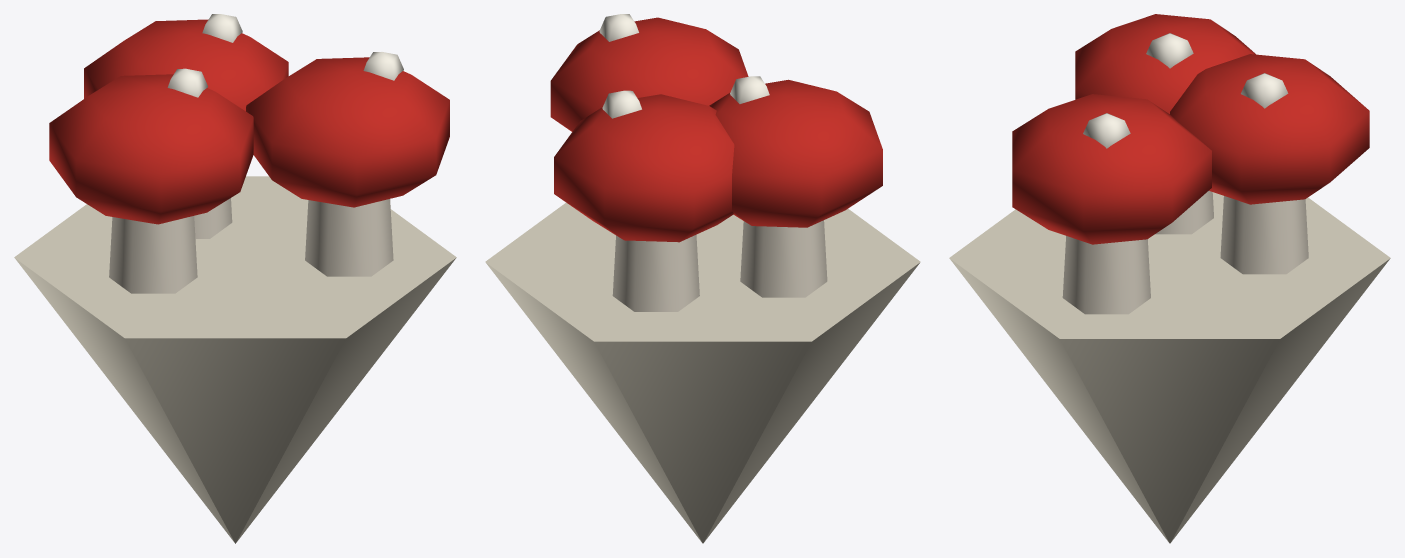
File: good-toadstool.glb
3 views of the same model, side by side, from view 1: azimuth 30°, elevation 25°; view 2: azimuth 150°, elevation 25°; view 3: azimuth 270°, elevation 25° (orthographic).
Parts seen in each view (by area): view 1: #d8d2c0, #c02a22_noshadow, #e8e0d0_noshadow, #f0ece0_noshadow; view 2: #d8d2c0, #c02a22_noshadow, #e8e0d0_noshadow, #f0ece0_noshadow; view 3: #d8d2c0, #c02a22_noshadow, #e8e0d0_noshadow, #f0ece0_noshadow.
Part boxes in pixels (box(x1,y1,x2,y2)): #d8d2c0: box(14, 176, 456, 543); #c02a22_noshadow: box(49, 19, 449, 224); #e8e0d0_noshadow: box(109, 198, 393, 293); #f0ece0_noshadow: box(167, 14, 403, 97); #d8d2c0: box(485, 202, 920, 543); #c02a22_noshadow: box(550, 17, 882, 242); #e8e0d0_noshadow: box(612, 220, 827, 311); #f0ece0_noshadow: box(599, 14, 769, 118); #d8d2c0: box(949, 192, 1390, 543); #c02a22_noshadow: box(1012, 14, 1369, 244); #e8e0d0_noshadow: box(1062, 191, 1308, 314); #f0ece0_noshadow: box(1083, 33, 1288, 148).
Size of the model in its own units: 0.1249 by 0.17 by 0.14.
